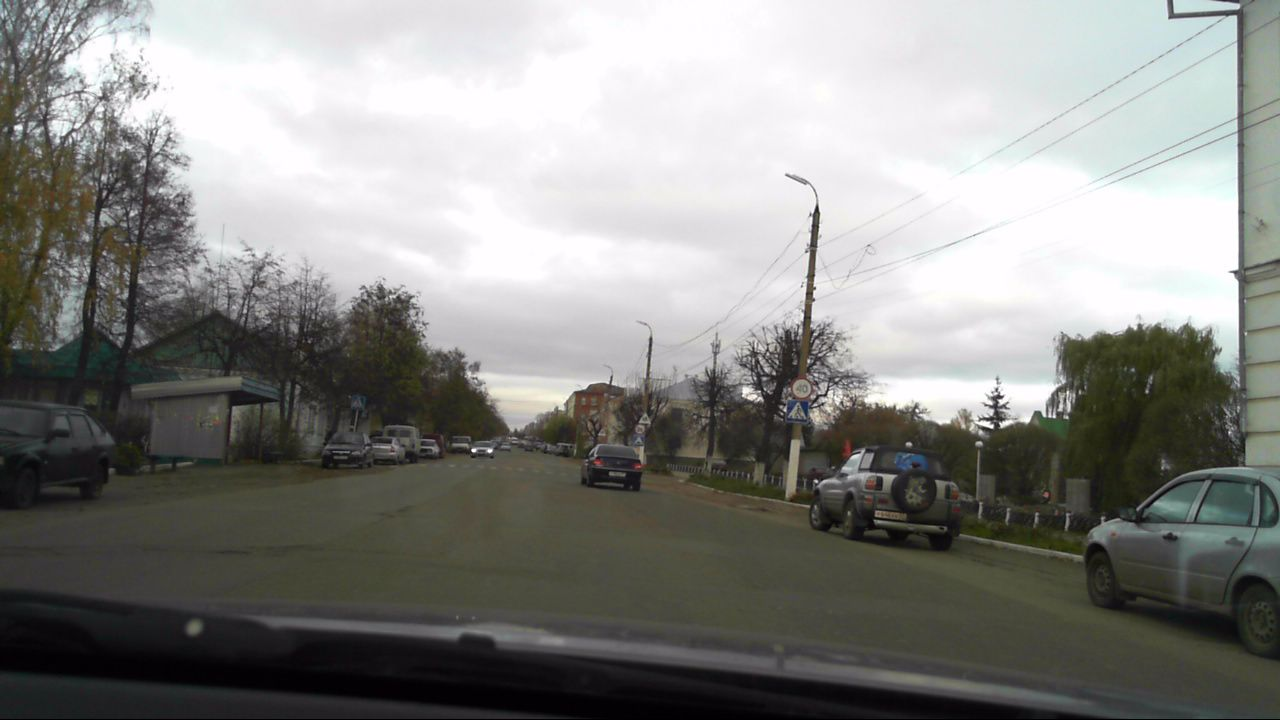speed_warning_40: (787, 377, 808, 398)
